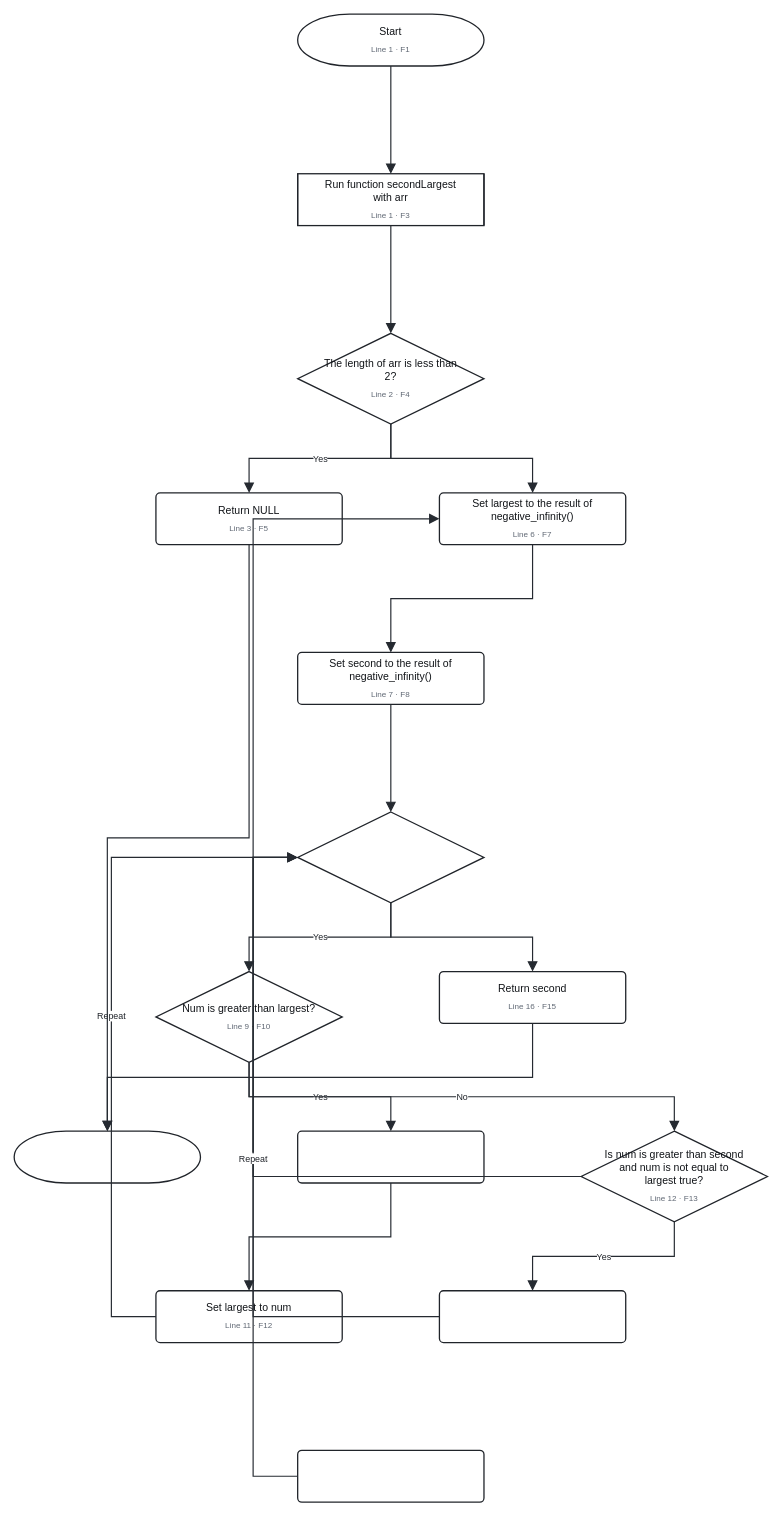
The diagram is 782 pixels wide and 1517 high, and some of its shapes have lost their labels. The centre of each missing label's shape, as x and y in pixels:
End Line 1 · F2: (107,1156)
For each num in arr Line 8 · F9: (390,857)
or error Line 4 · F6: (390,1475)
Set second to largest Line 10 · F11: (390,1156)
Set second to num Line 13 · F14: (532,1316)
